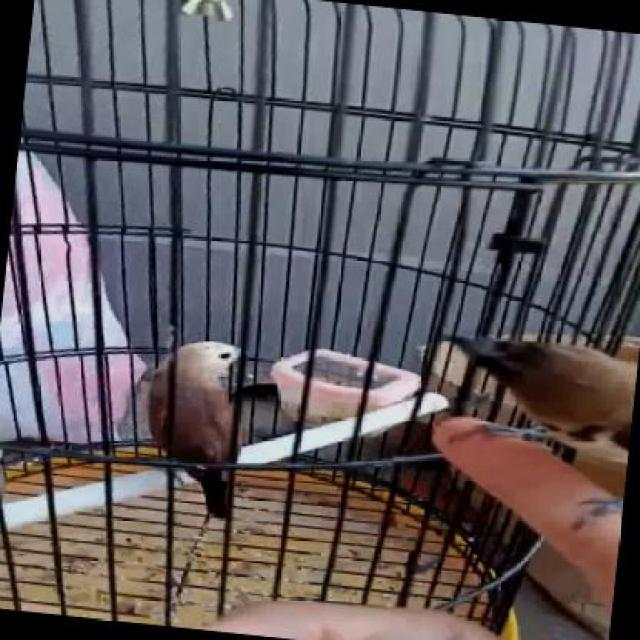Bird: (132, 324, 308, 527), (443, 315, 640, 443)
